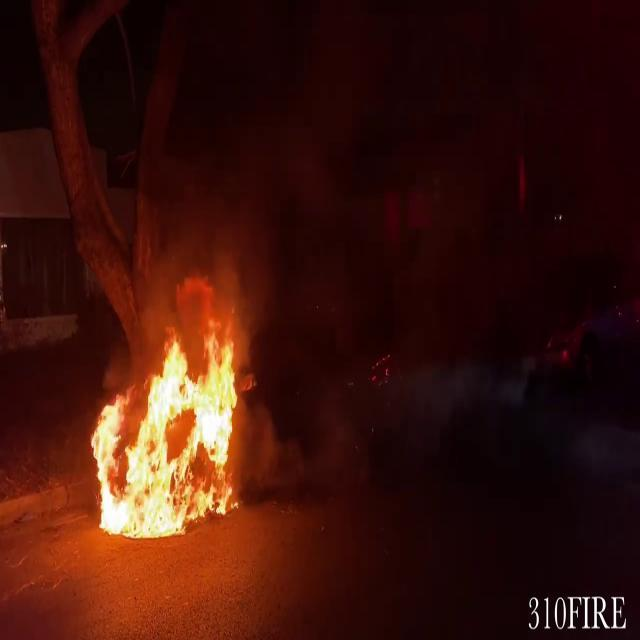Fire: (85, 313, 249, 544)
Smoke: (134, 42, 327, 327)
